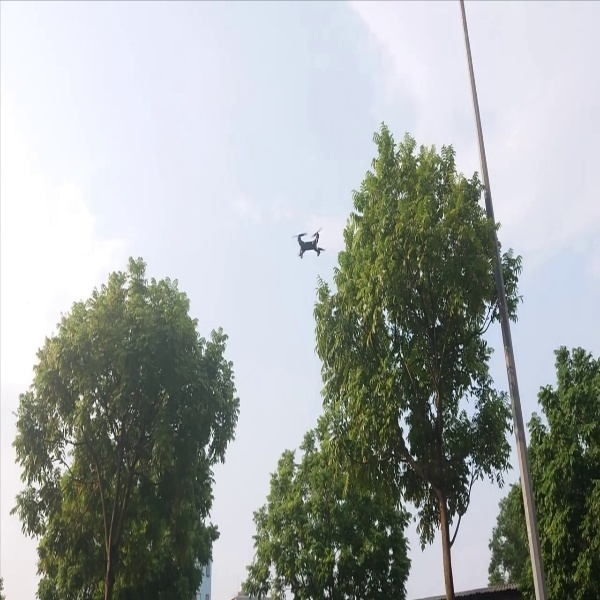drone: (285, 222, 332, 264)
